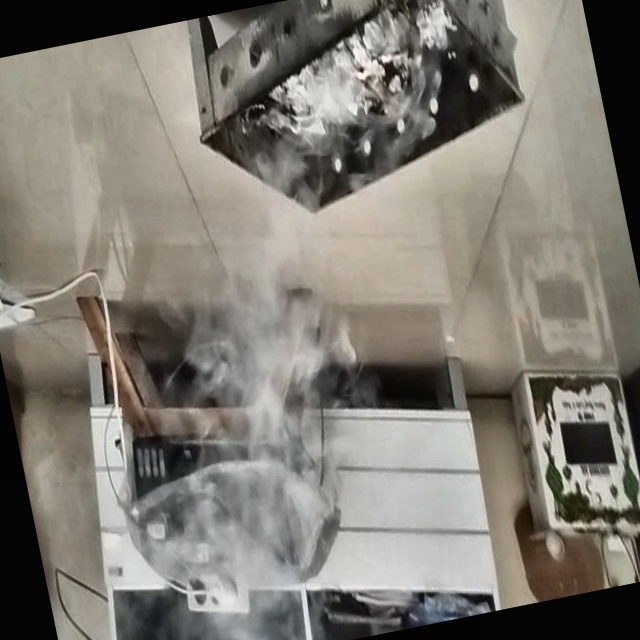smoke: (117, 344, 370, 640), (191, 23, 466, 282)
